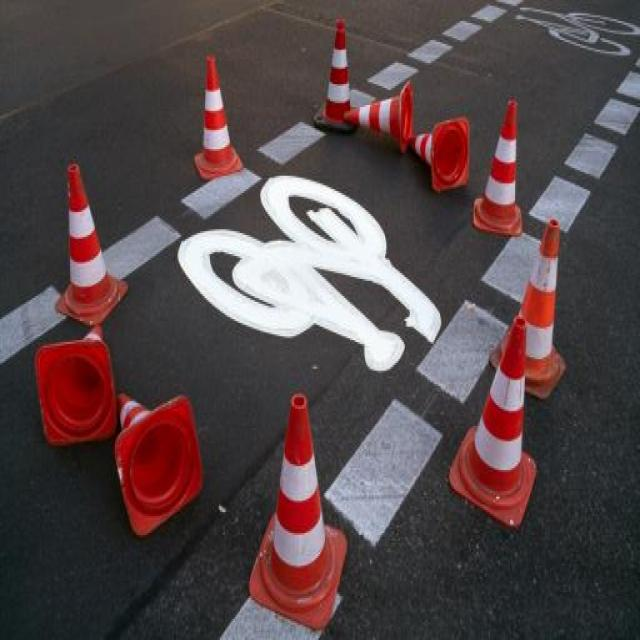Cone: (245, 393, 347, 632), (450, 313, 539, 539), (489, 220, 569, 407), (111, 394, 211, 538), (54, 162, 128, 330), (35, 327, 116, 449), (475, 97, 526, 237), (195, 54, 245, 182), (342, 80, 412, 155), (314, 19, 358, 134), (410, 116, 471, 195)
